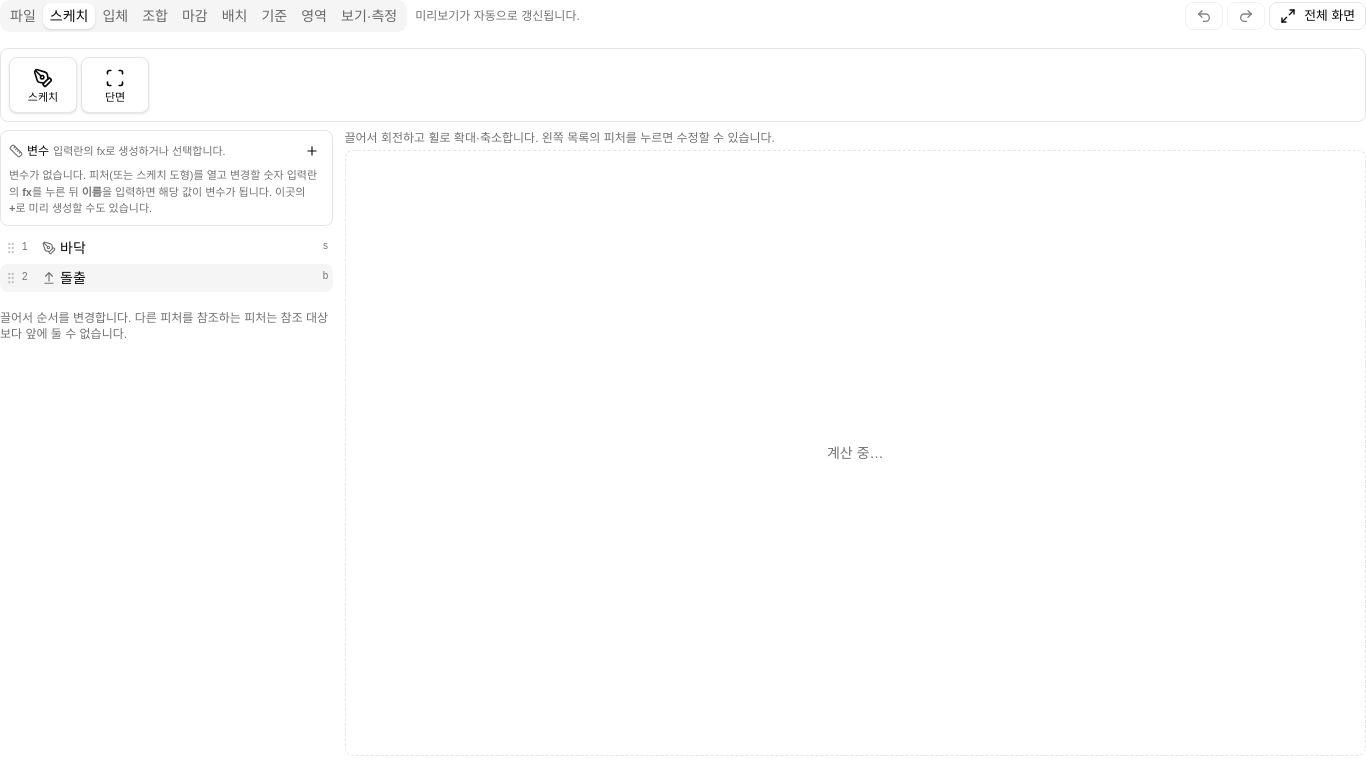
it: 스케치 피처를 고르면 캔버스가 뜬다
Click the text "바닥": (73, 248) [60,238,86,258]
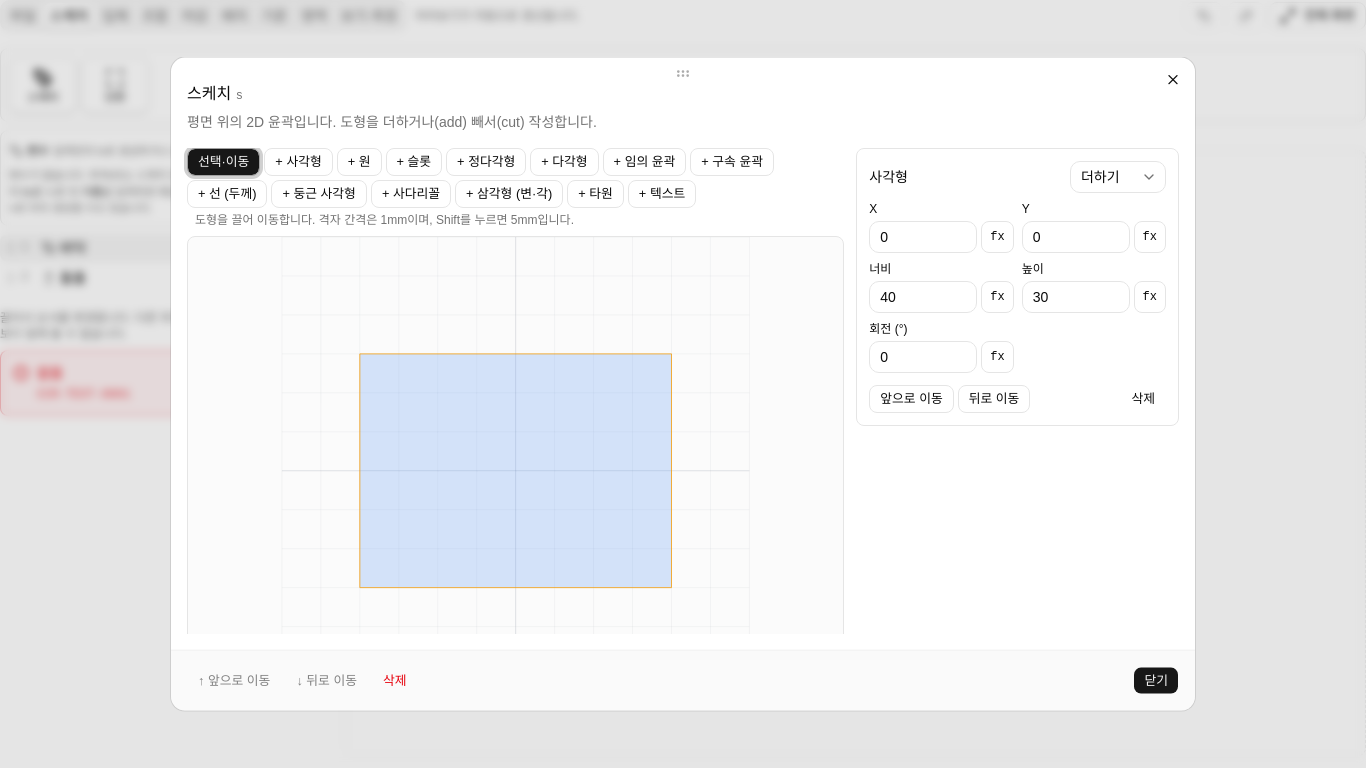
Result: the button "선택·이동" is shown at [187,148,260,176]
Result: the button "+ 원" is shown at [337,148,382,176]
